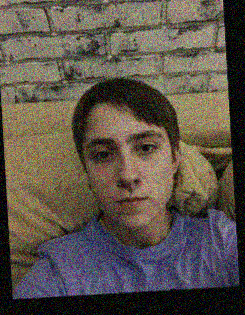without_mask: (84, 127, 172, 230)
